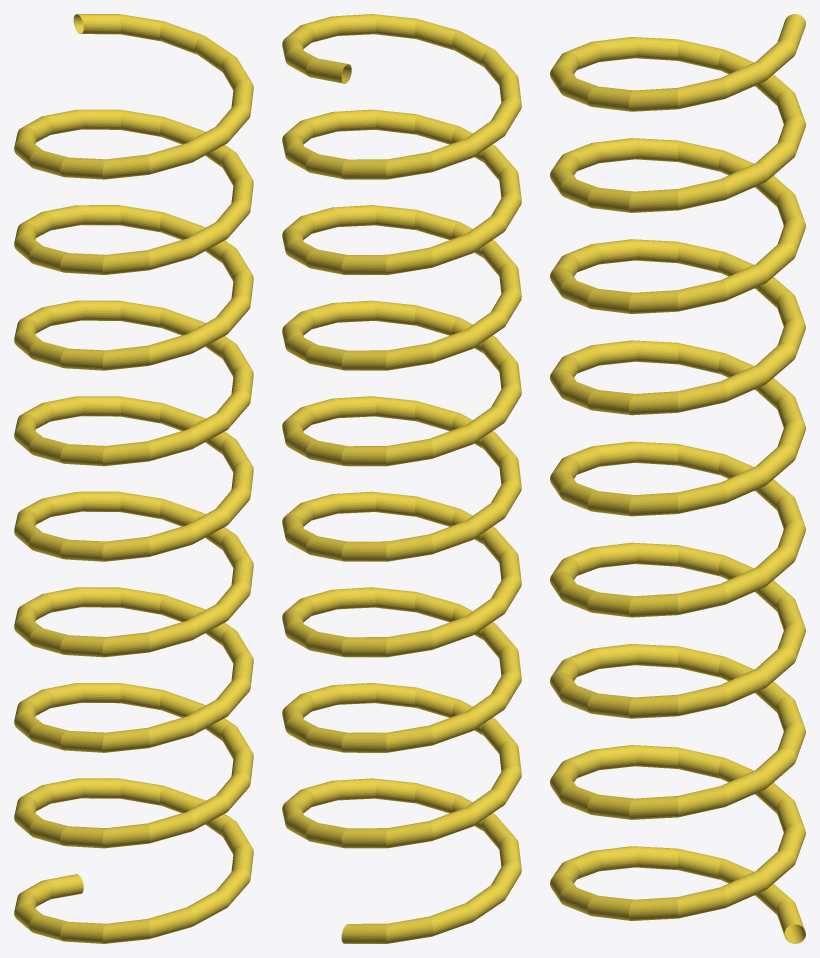
The model's file is bane.fbx.
3 views of the same model, side by side, from view 1: azimuth 30°, elevation 25°; view 2: azimuth 150°, elevation 25°; view 3: azimuth 270°, elevation 25° (orthographic). The views are drawn at different scales.
Parts seen in each view (by area): view 1: 円; view 2: 円; view 3: 円.
Boxes of the visible parts, x1,y1,x2,y2 form: 円: (14,14,253,943); 円: (282,14,521,943); 円: (550,14,805,943).
Bounding box in the file's own units: 195 × 781 × 195.
